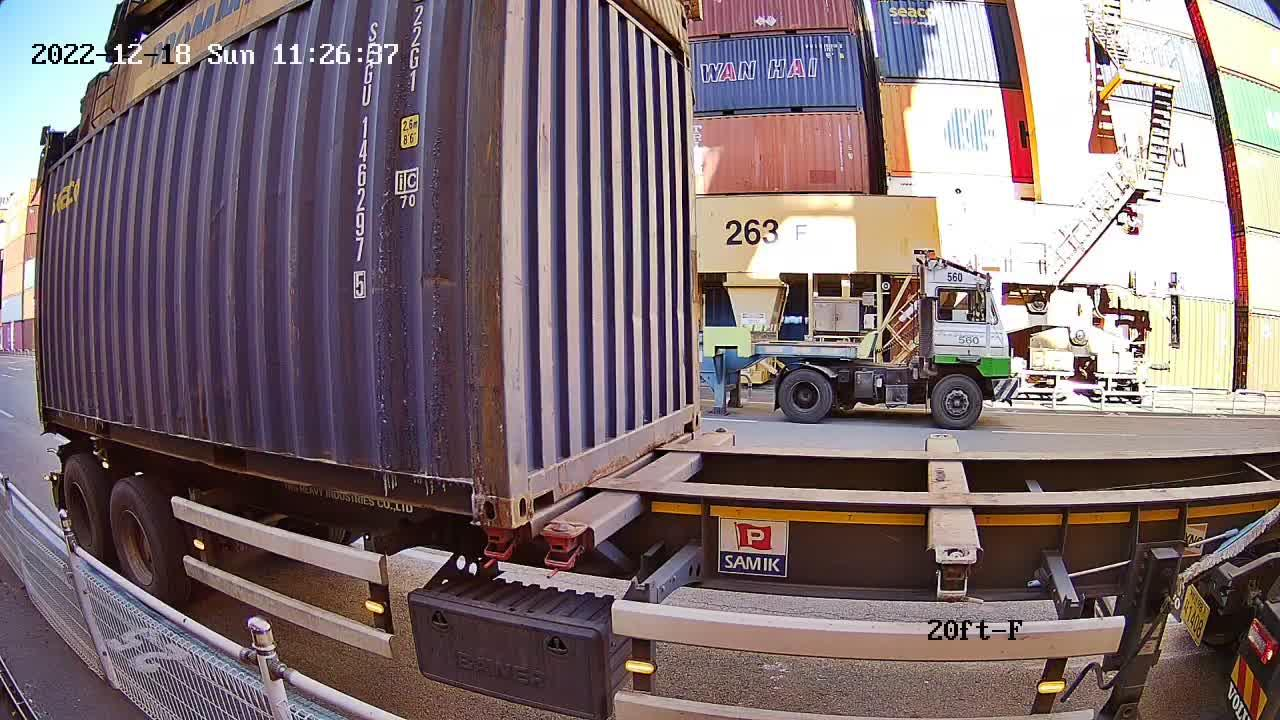Chassis: (547, 429, 733, 549)
Cone: (540, 523, 590, 575), (475, 523, 516, 564)
Hole_L: (508, 433, 563, 530)
Hole_R: (436, 445, 514, 527), (677, 389, 703, 435)
Tire: (109, 484, 170, 604), (61, 458, 106, 562)
